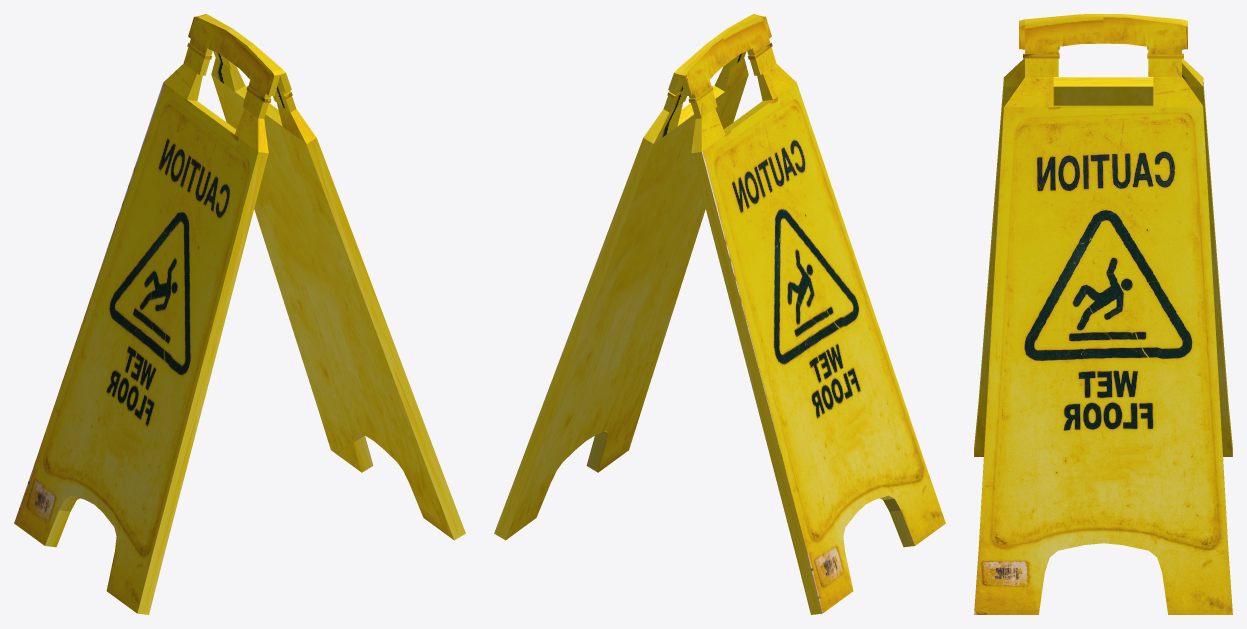
File: WetFloorSign.glb
3 renders of one model, left to right at view 1: azimuth 30°, elevation 25°; view 2: azimuth 150°, elevation 25°; view 3: azimuth 270°, elevation 25°, orthographic. The views are drawn at different scales.
Visible parts, largest first — view 1: Cube; view 2: Cube; view 3: Cube.
Part boxes in pixels (x1,y1,x2,y2): Cube: (14,14,465,614); Cube: (494,14,945,614); Cube: (974,14,1232,614).
Size of the model in its own units: 2.69 by 3.88 by 1.75.
1 material, 1 textured.
